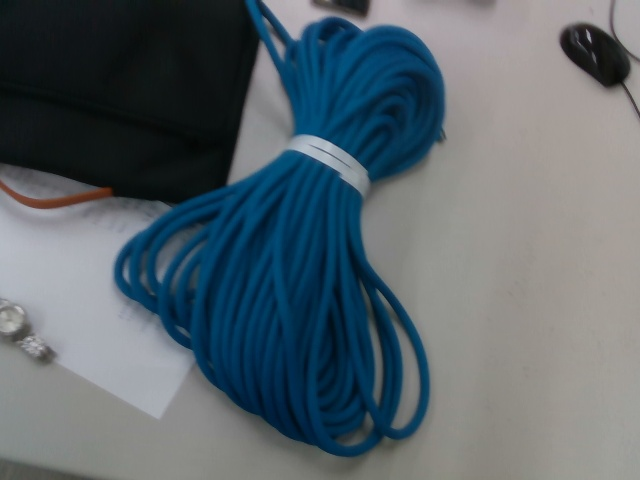rope: (111, 2, 451, 458)
